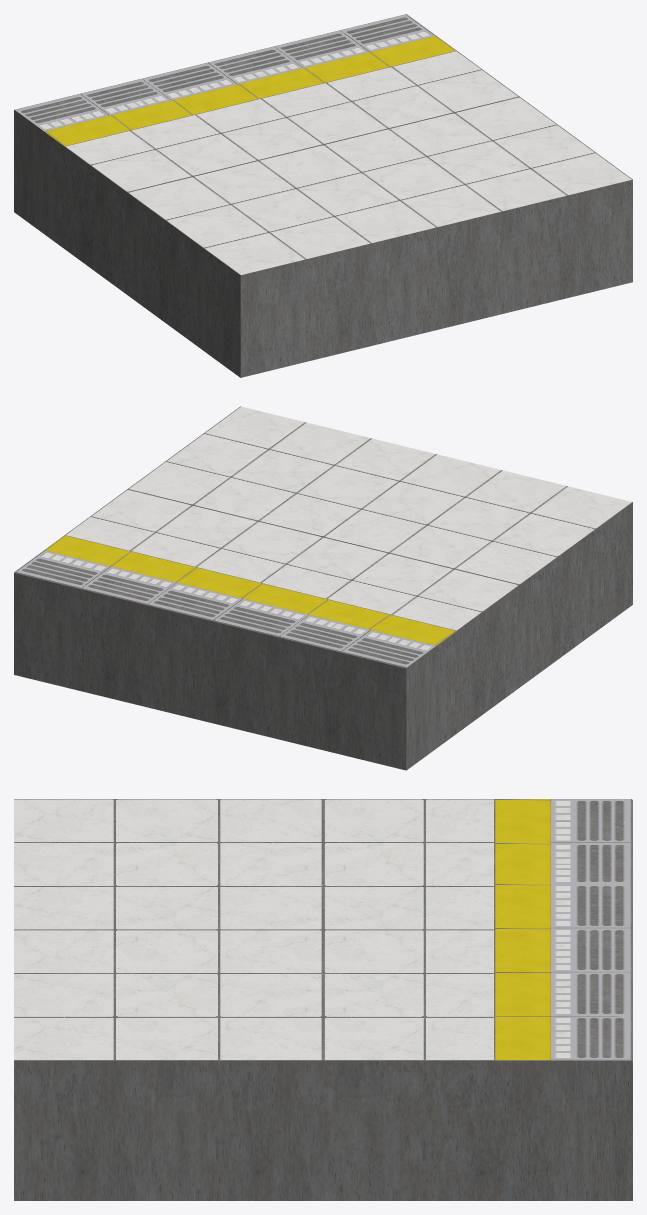
The model's file is FloorPlatform_1.fbx.
The picture shows the model from 3 angles, top to bottom: view 1: azimuth 30°, elevation 25°; view 2: azimuth 150°, elevation 25°; view 3: azimuth 270°, elevation 25°; orthographic projection. The views are drawn at different scales.
Parts seen in each view (by area): view 1: FloorPlatform_1; view 2: FloorPlatform_1; view 3: FloorPlatform_1.
Boxes of the visible parts, x1,y1,x2,y2 form: FloorPlatform_1: (14, 14, 632, 377); FloorPlatform_1: (14, 406, 632, 770); FloorPlatform_1: (14, 799, 632, 1200).
Size of the model in its own units: 4 by 1 by 4.
